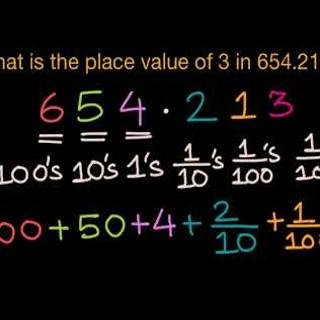.: (160, 105, 173, 120), (291, 64, 297, 71)
0: (103, 209, 126, 241), (21, 218, 45, 242)
1: (228, 85, 260, 123), (286, 196, 316, 223), (308, 49, 318, 72)
2: (176, 87, 222, 127), (208, 194, 241, 223), (297, 50, 309, 72)
3: (265, 85, 297, 122), (217, 49, 231, 73)
4: (114, 85, 148, 129), (150, 205, 177, 239), (280, 53, 293, 71)
5: (72, 83, 106, 125), (70, 209, 103, 238), (269, 50, 280, 72)
6: (38, 88, 64, 125), (255, 48, 269, 76)
